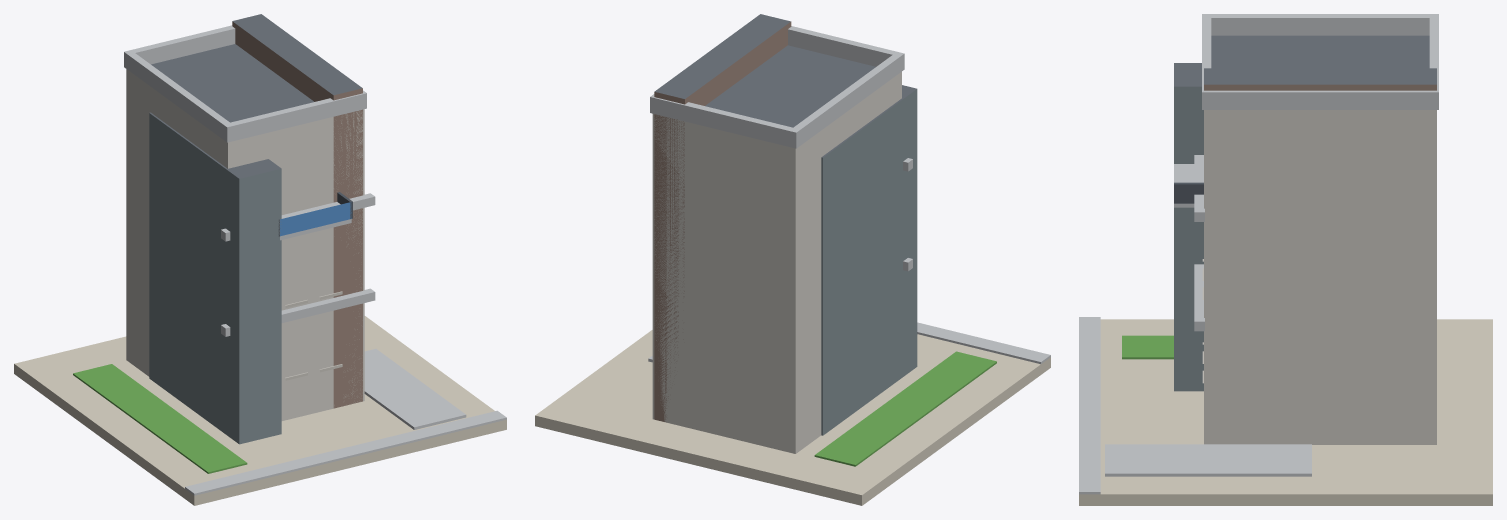
3 renders of one model, left to right at view 1: azimuth 30°, elevation 25°; view 2: azimuth 150°, elevation 25°; view 3: azimuth 270°, elevation 25°, orthographic. The views are drawn at different scales.
Parts seen in each view (by area): view 1: b03_v2_lod1; view 2: b03_v2_lod1; view 3: b03_v2_lod1.
Part boxes in pixels (box(x1,y1,x2,y2)): b03_v2_lod1: box(14, 14, 506, 505); b03_v2_lod1: box(535, 14, 1050, 505); b03_v2_lod1: box(1079, 14, 1492, 505).
Size of the model in its own units: 0.96 by 0.95 by 0.96.
